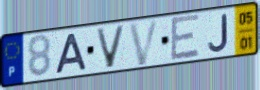8: (26, 33, 55, 80)
A: (53, 32, 89, 76)
E: (169, 13, 201, 64)
J: (207, 12, 230, 53)
V: (127, 18, 162, 68), (94, 24, 127, 70)
